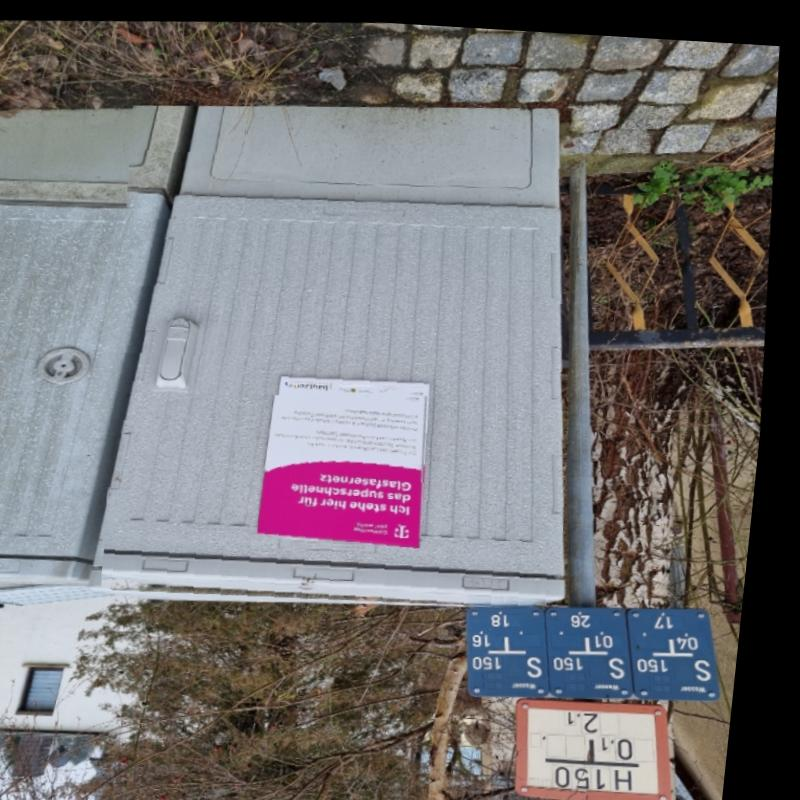NT-Gehause: (87, 80, 613, 625)
Steaker: (260, 382, 444, 552)
